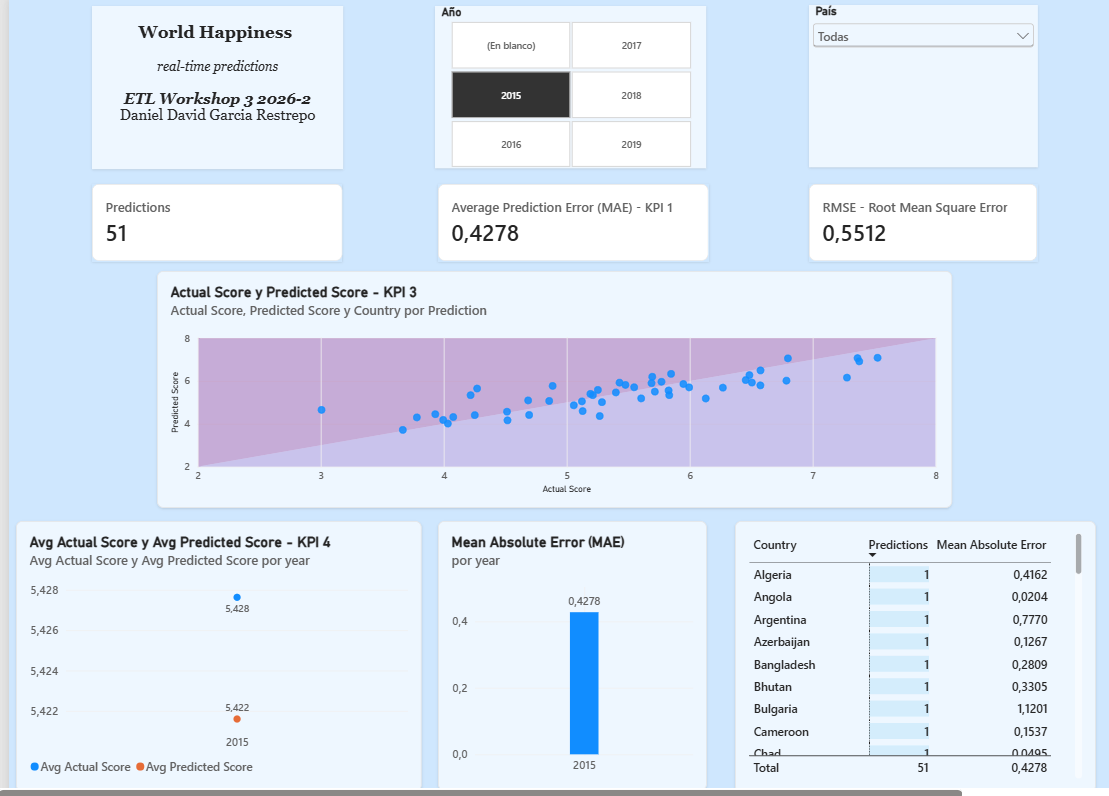

What the dashboard file says about the page in this screenshot:
{"tool":"powerbi","page":{"name":"Prediction KPIs","canvas":[1920,1080],"ordinal":0},"visuals":[{"type":"slicer","title":"Año","fields":{"Values":["dim_date.year"]},"box":[532.5,10,338.9,203.3],"z":0},{"type":"slicer","fields":{"Values":["dim_country.country_name"]},"box":[1000,8.8,285.6,203.3],"z":1000},{"type":"cardVisual","fields":{"Data":["fact_predictions.Predictions"]},"box":[103.8,232.5,313.3,96.7],"z":2000},{"type":"cardVisual","fields":{"Data":["fact_predictions.Mean Absolute Error"]},"box":[536.2,232.5,338.9,96.7],"z":3000},{"type":"cardVisual","fields":{"Data":["fact_predictions.RMSE"]},"box":[1000,232.5,285.6,96.7],"z":4000},{"type":"textbox","box":[103.8,10,313.8,203.8],"z":5000},{"type":"scatterChart","title":"Actual Score y Predicted Score - KPI 3","fields":{"Category":["fact_predictions.prediction_id"],"X":["Avg(fact_predictions.actual_score)"],"Y":["Avg(fact_predictions.predicted_score)"]},"box":[185,341.2,994.4,295.6],"z":6000},{"type":"lineChart","title":"Avg Actual Score y Avg Predicted Score - KPI 4","fields":{"Category":["dim_date.year"],"Y":["fact_predictions.Avg Actual Score","fact_predictions.Avg Predicted Score"]},"box":[8.3,653.3,506.7,338.3],"z":7000},{"type":"tableEx","fields":{"Values":["dim_country.country_name","fact_predictions.Predictions","fact_predictions.Mean Absolute Error"]},"box":[907.5,653.8,451.2,338.8],"z":8000},{"type":"clusteredColumnChart","fields":{"Category":["dim_date.year"],"Y":["fact_predictions.Mean Absolute Error"]},"box":[536.2,653.8,335.6,336.7],"z":9000}]}

Visuals, with their boxes on the page's 1920x1080 design canvas (x1, y1, x2, y2). These are canvas units, not pixel positions in the 1109x796 screenshot, which may show the page scaled, cropped or inside an application window:
"Año" slicer: [532, 10, 871, 213]
slicer - dim_country.country_name: [1000, 9, 1286, 212]
cardVisual - fact_predictions.Predictions: [104, 232, 417, 329]
cardVisual - fact_predictions.Mean Absolute Error: [536, 232, 875, 329]
cardVisual - fact_predictions.RMSE: [1000, 232, 1286, 329]
textbox: [104, 10, 418, 214]
"Actual Score y Predicted Score - KPI 3" scatterChart: [185, 341, 1179, 637]
"Avg Actual Score y Avg Predicted Score - KPI 4" lineChart: [8, 653, 515, 992]
tableEx - dim_country.country_name x fact_predictions.Predictions: [908, 654, 1359, 993]
clusteredColumnChart - dim_date.year x fact_predictions.Mean Absolute Error: [536, 654, 872, 990]
